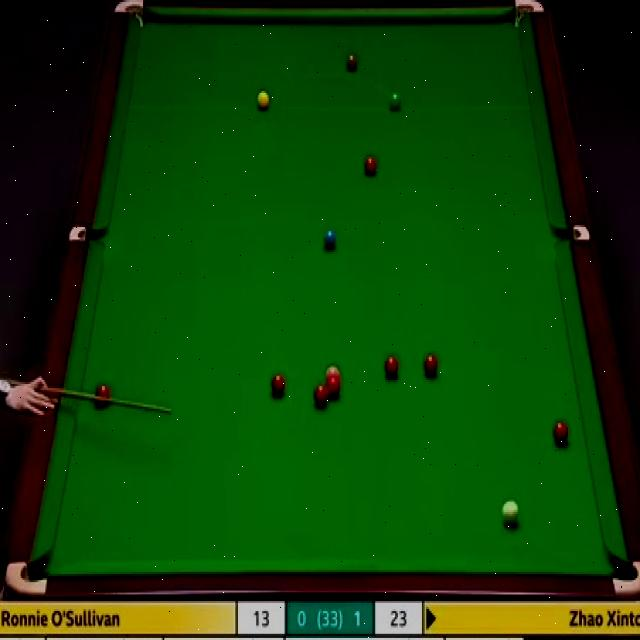blue-ball: (322, 227, 336, 250)
brown-ball: (345, 52, 358, 73)
green-ball: (388, 90, 401, 111)
pink-ball: (324, 366, 341, 380)
red-ball: (95, 381, 111, 409), (553, 422, 570, 445), (383, 355, 399, 379), (324, 377, 342, 398), (423, 353, 438, 378), (362, 154, 378, 177), (270, 374, 285, 396), (313, 386, 329, 406)
white-ball: (501, 498, 520, 530)
yellow-ball: (256, 89, 270, 110)
